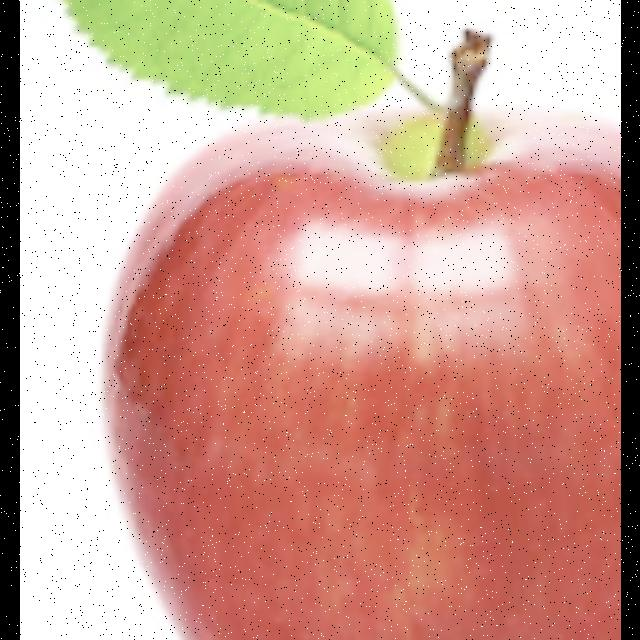Apel Segar: (45, 48, 620, 640)
